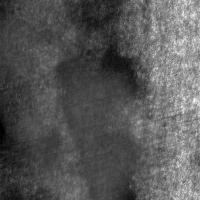patches: (15, 65, 157, 200), (57, 47, 143, 198), (0, 0, 93, 95), (17, 128, 64, 171)
